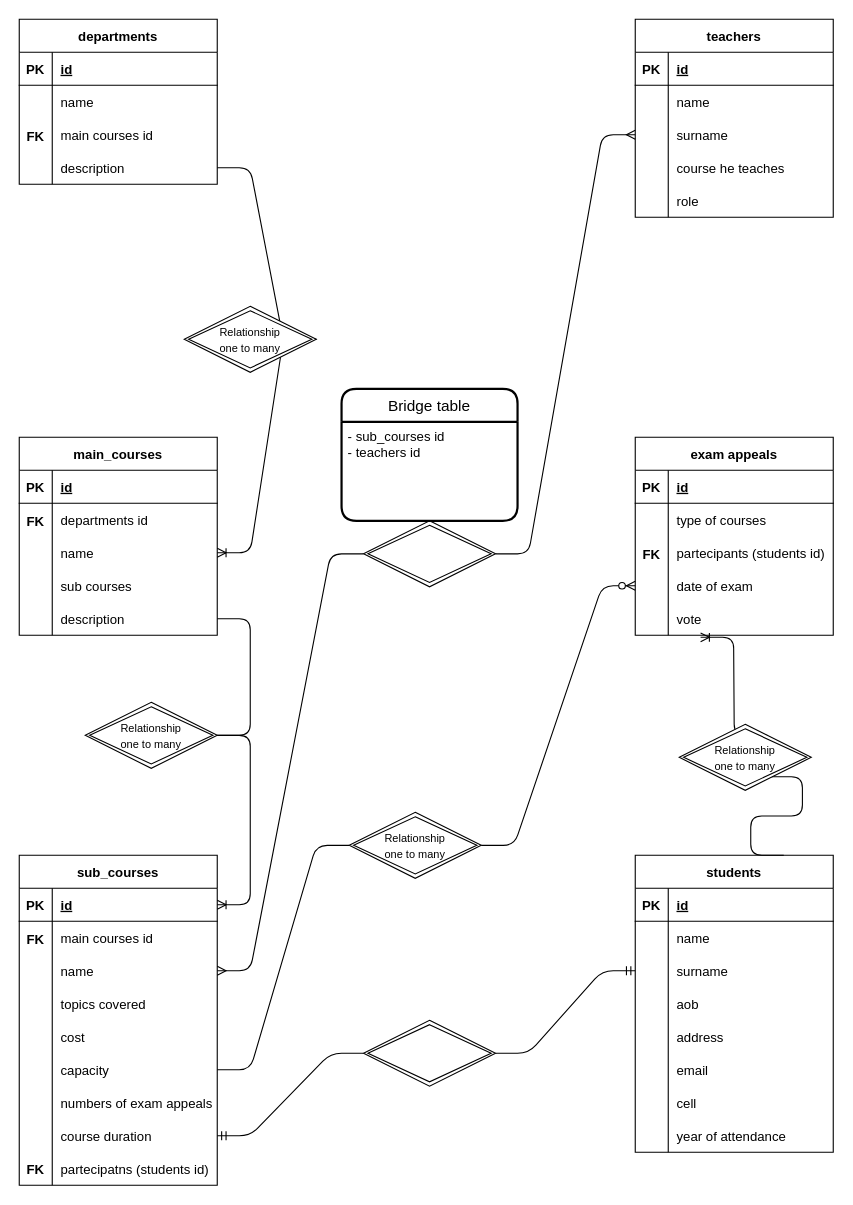
This 853x1205 diagram has some shape labels left out. The shapes that lost their labels are listed below. From the top down, each one's centre as x and y in pixels, then its label:
point (429, 553): Relationship many to many
point (429, 1052): Relationship one to one
